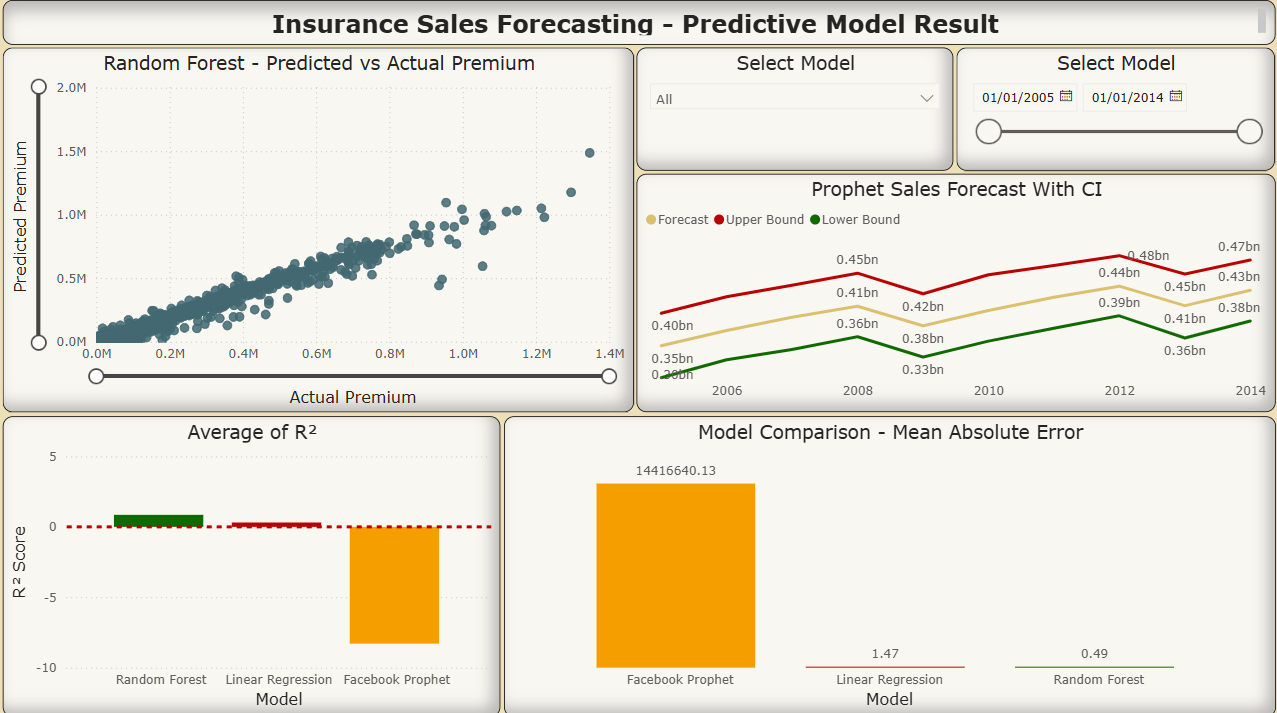

The dashboard page shown, as its layout file describes it:
{"tool":"powerbi","page":{"name":"Predictive Analytics","canvas":[1280,720],"ordinal":2},"visuals":[{"type":"textbox","box":[0,0,1280,44.3],"z":0},{"type":"scatterChart","title":"Random Forest - Predicted vs Actual Premium","fields":{"X":["Sum(rf_predictions.Actual_Premium)"],"Y":["Sum(rf_predictions.Predicted_Premium)"],"Category":["rf_predictions.Actual_Premium"]},"box":[3.7,47.7,631,364.4],"z":1000},{"type":"lineChart","title":"Prophet Sales Forecast With CI","fields":{"Category":["prophet_forecast.Year.Variation.Date Hierarchy.Year","prophet_forecast.Year.Variation.Date Hierarchy.Quarter","prophet_forecast.Year.Variation.Date Hierarchy.Month","prophet_forecast.Year.Variation.Date Hierarchy.Day"],"Y":["Sum(prophet_forecast.Forecast)","Sum(prophet_forecast.Upper_Bound)","Sum(prophet_forecast.Lower_Bound)"]},"box":[638.3,146.7,638.3,265.4],"z":2000},{"type":"clusteredColumnChart","fields":{"Category":["model_comparison.Model"],"Y":["Sum(model_comparison.R²)"]},"box":[3.7,415.8,497.7,300.8],"z":3000},{"type":"clusteredColumnChart","title":"Model Comparison - Mean Absolute Error","fields":{"Category":["model_comparison.Model"],"Y":["Sum(model_comparison.MAE)"]},"box":[505,415.8,771.6,300.8],"z":4000},{"type":"slicer","title":"Select Model","fields":{"Values":["model_comparison.Model"]},"box":[638.3,47.7,316.7,95.4],"z":5000},{"type":"slicer","title":"Select Model","fields":{"Values":["prophet_forecast.Year"]},"box":[958.7,47.7,317.9,95.4],"z":6000}]}

Visuals, with their boxes in screenshot pixels (x1, y1, x2, y2), scaled from the page's 1280x720 canvas onto the 1277x713 screenshot:
textbox: crop(0, 0, 1276, 44)
"Random Forest - Predicted vs Actual Premium" scatterChart: crop(4, 47, 633, 408)
"Prophet Sales Forecast With CI" lineChart: crop(637, 145, 1274, 408)
clusteredColumnChart - model_comparison.Model x Sum(model_comparison.R²): crop(4, 412, 500, 710)
"Model Comparison - Mean Absolute Error" clusteredColumnChart: crop(504, 412, 1274, 710)
"Select Model" slicer: crop(637, 47, 953, 142)
"Select Model" slicer: crop(956, 47, 1274, 142)
